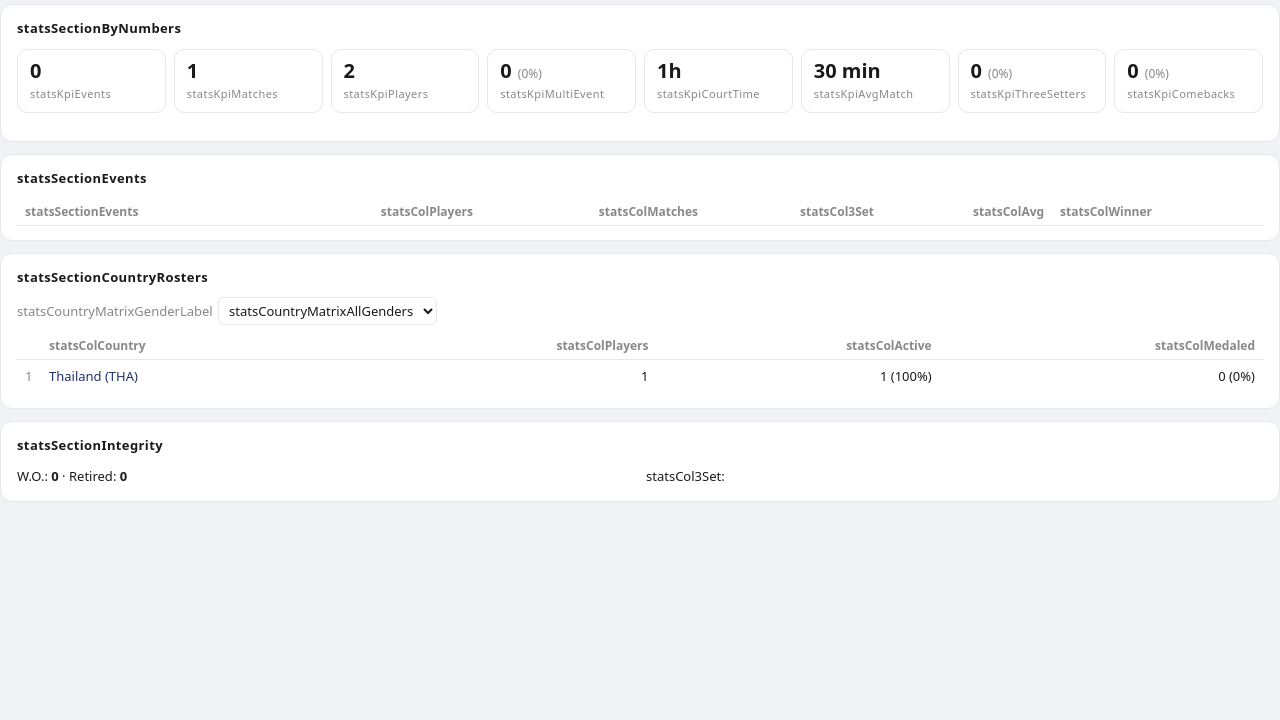
it: TournamentStatsPanel — country roster modal + ages › clicking a country opens the modal and shows age + DOB tooltip
The width and height of the screenshot is (1280, 720).
// Country cell (name (code) label) renders as a button.
What coordinates should you click on to do the following:
click the button "Thailand (THA)"
I would click on:
 (93, 377)
Its box is [49,367,138,386].
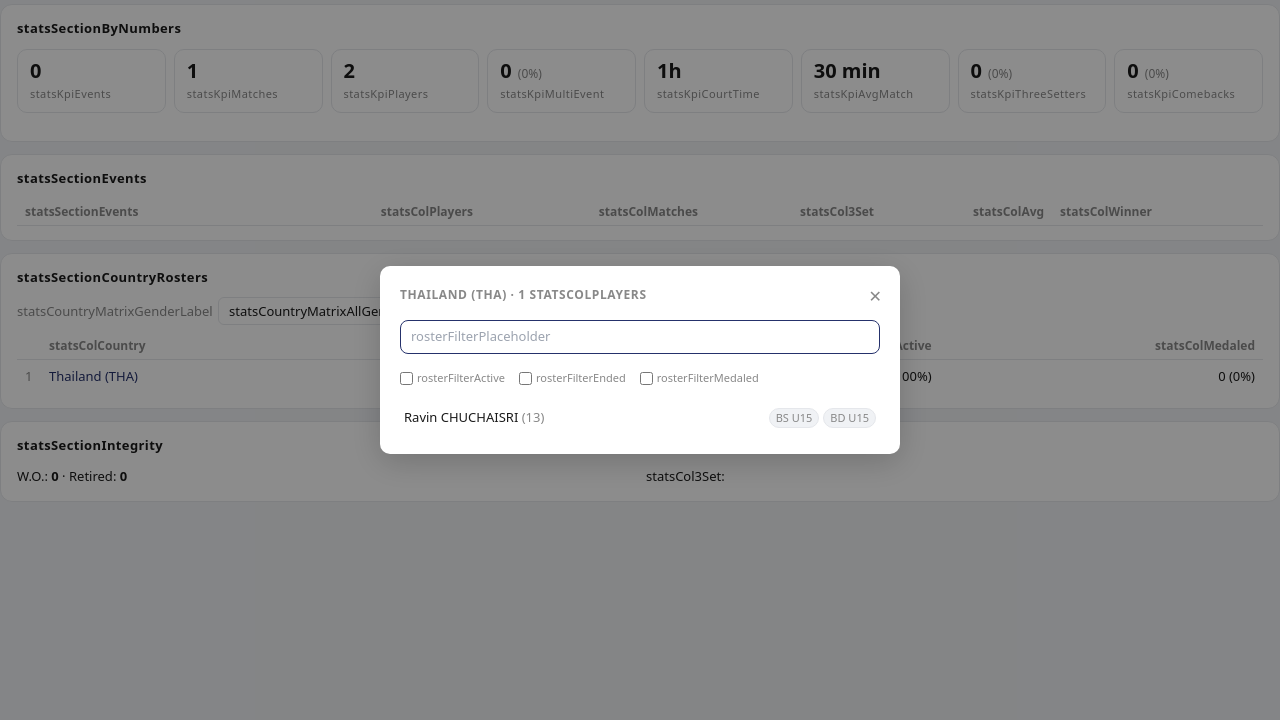
Expected: the text "(13)" is shown, [518,408,544,426]
Expected: the element with class "country-roster-name" is shown, [404,408,544,428]
